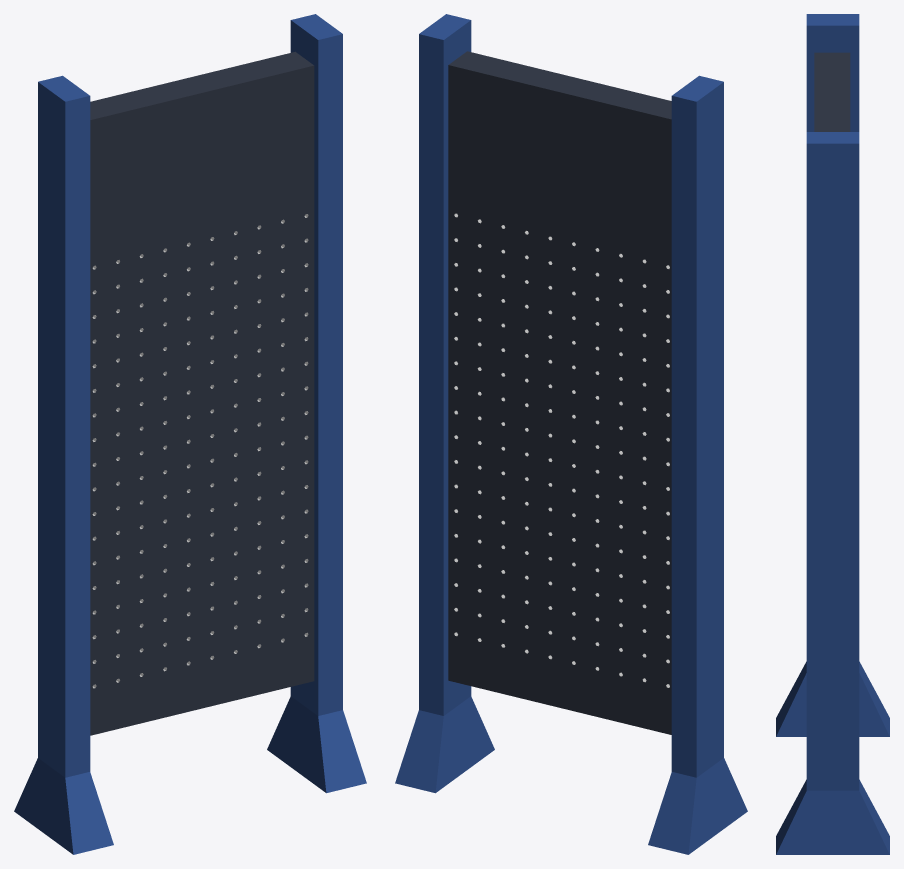
File: equiplet complex.dae
3 renders of one model, left to right at view 1: azimuth 30°, elevation 25°; view 2: azimuth 150°, elevation 25°; view 3: azimuth 270°, elevation 25°, orthographic. The views are drawn at different scales.
Visible parts, largest first — view 1: skp3C8F (×3); view 2: skp3C8F (×3); view 3: skp3C8F (×3).
Boxes of the visible parts, x1,y1,x2,y2 form: skp3C8F (×3): (14, 14, 366, 854); skp3C8F (×3): (395, 14, 747, 854); skp3C8F (×3): (776, 14, 889, 854).
Size of the model in its own units: 24.54 by 8.61 by 59.08.
